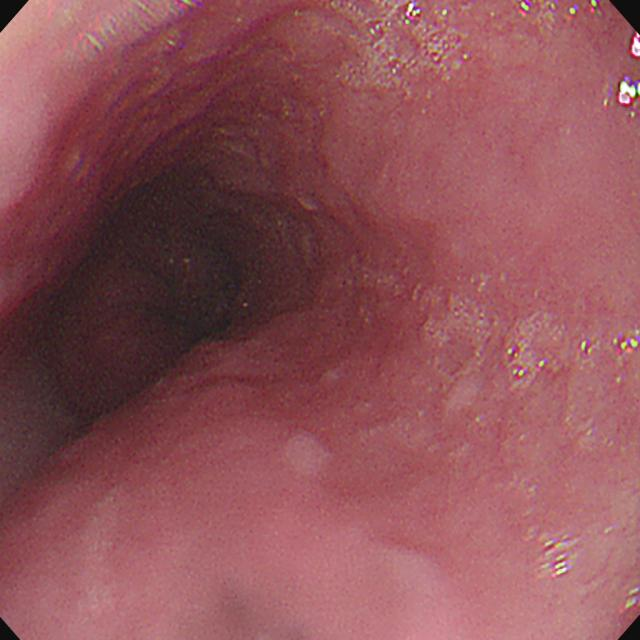T: (366, 2, 465, 78), (508, 323, 539, 390)
U: (544, 541, 568, 579), (618, 76, 640, 110), (614, 335, 640, 357), (629, 31, 640, 58)
